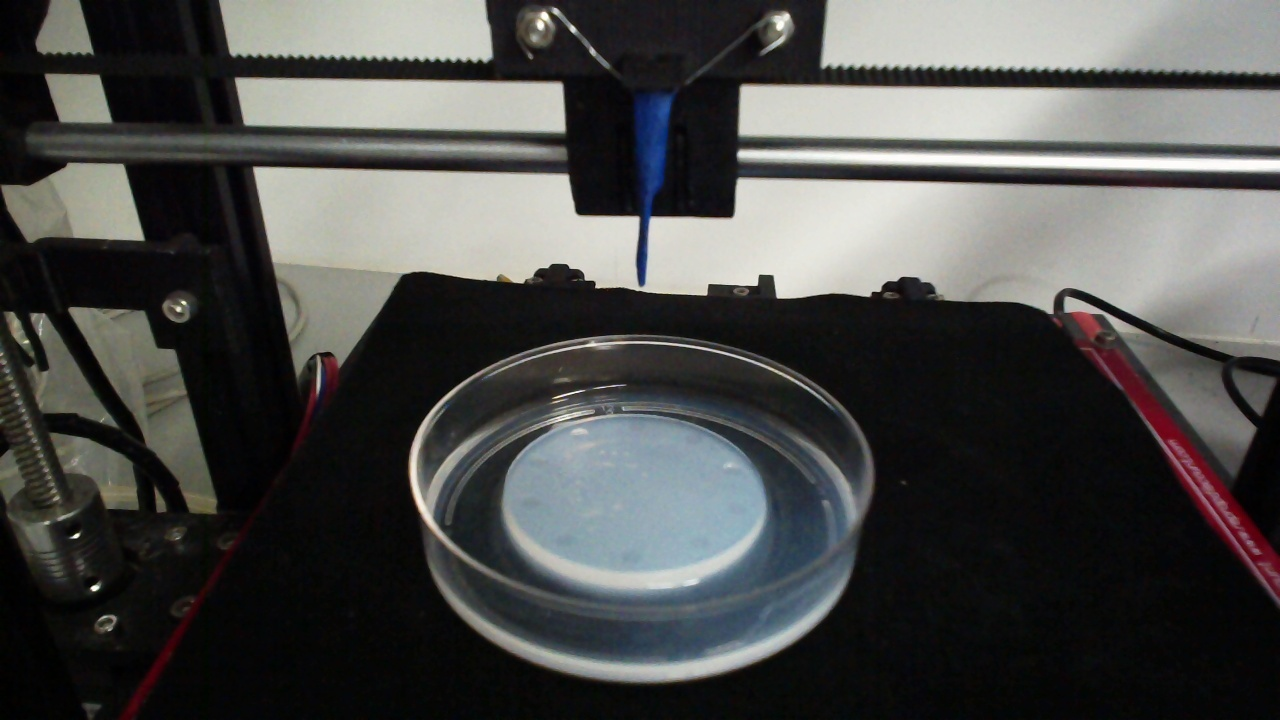groove: (619, 546, 646, 566), (551, 532, 578, 550), (518, 495, 543, 513), (684, 535, 709, 553), (720, 462, 748, 477), (725, 499, 751, 515), (525, 453, 548, 468), (681, 432, 703, 447), (625, 419, 648, 433), (569, 426, 589, 442)
needle: (634, 94, 673, 287)
